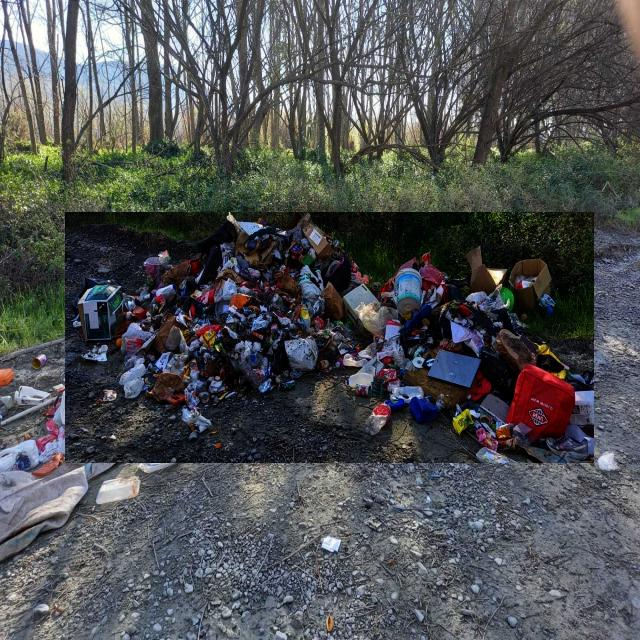dumping: (65, 212, 594, 463)
